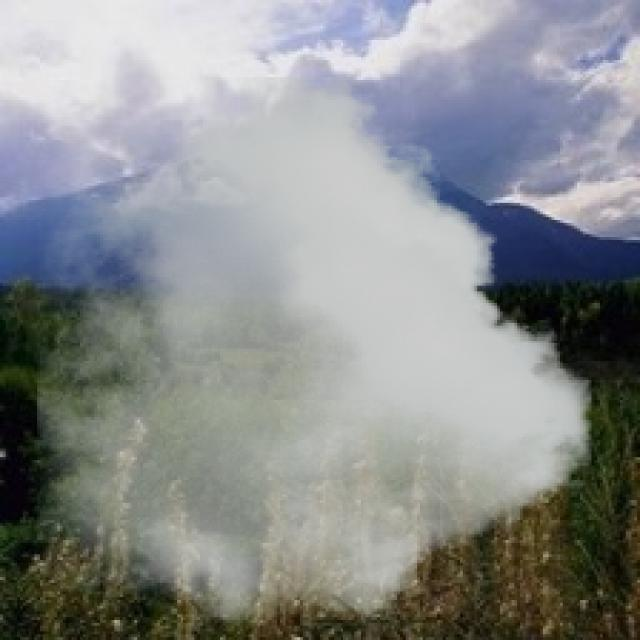smoke: (37, 77, 592, 626)
